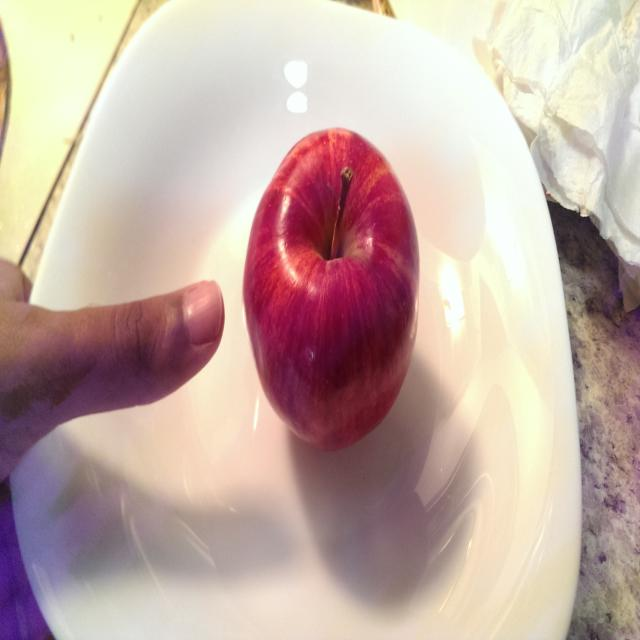apple: (242, 120, 434, 451)
